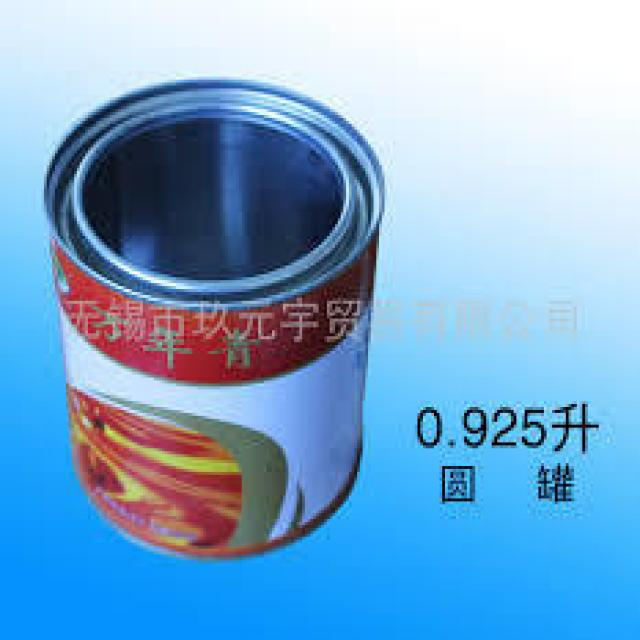-Recyclables - can-: (41, 69, 384, 563)
